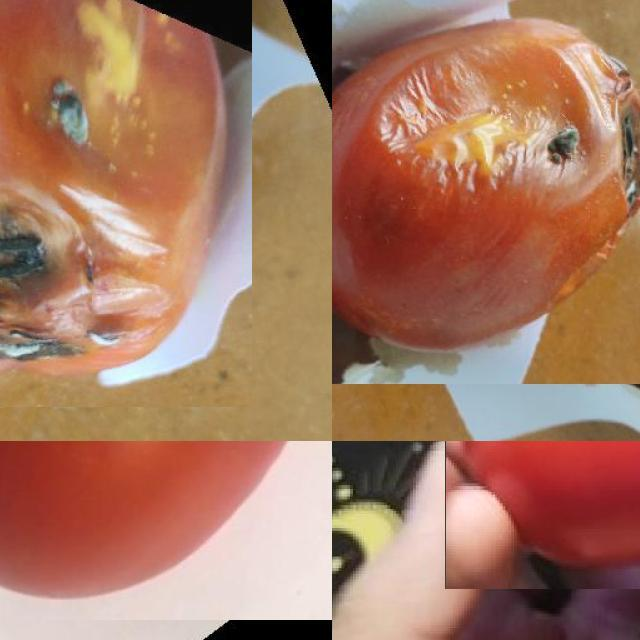Fresh Tomato: (0, 441, 332, 620), (445, 441, 640, 588)
Rotten Tomato: (332, 0, 640, 384), (0, 0, 251, 407)
